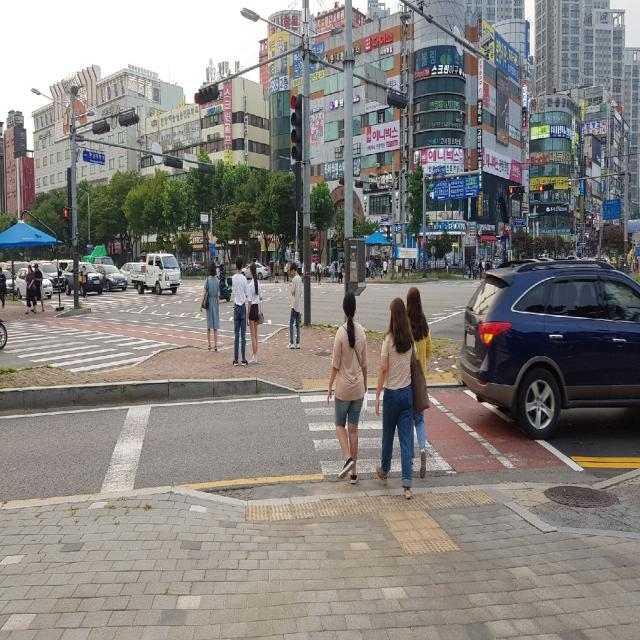빨간불: (59, 201, 78, 244)
횡단보도: (299, 393, 454, 476)
